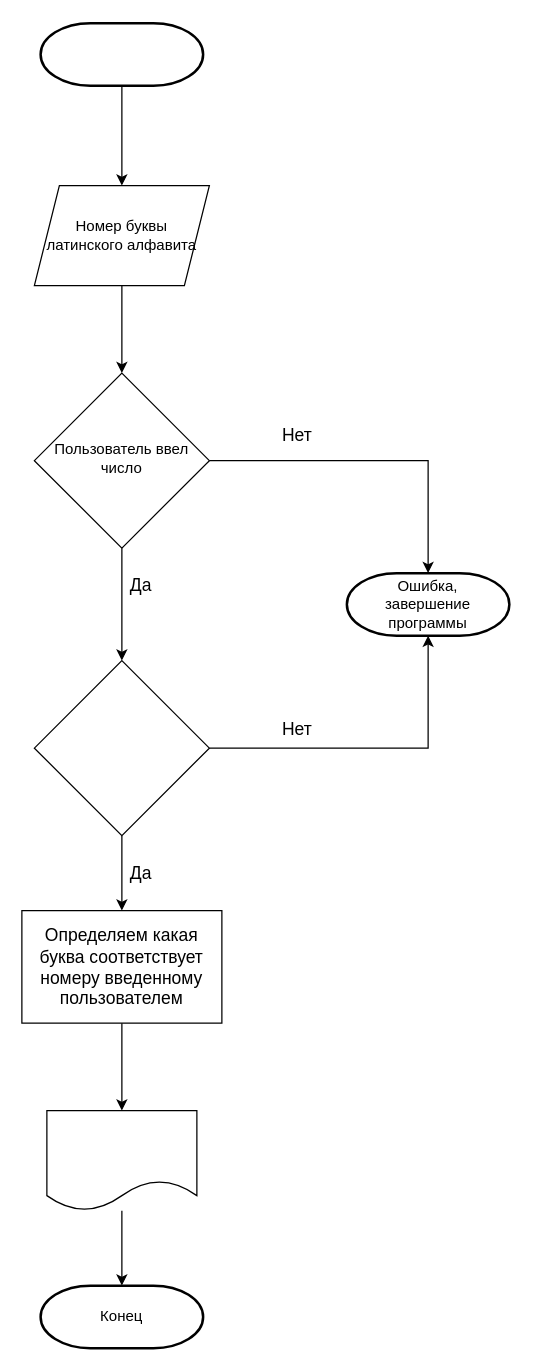
The diagram is 533 pixels wide and 1370 high, and some of its shapes have lost their labels. Here are the shapes that lost their labels. From the top down, the centre of each, then its label:
At (x=121, y=53): "Начало".
At (x=121, y=747): "Число между 1 и 26".
At (x=121, y=1160): "Вывод результата".
